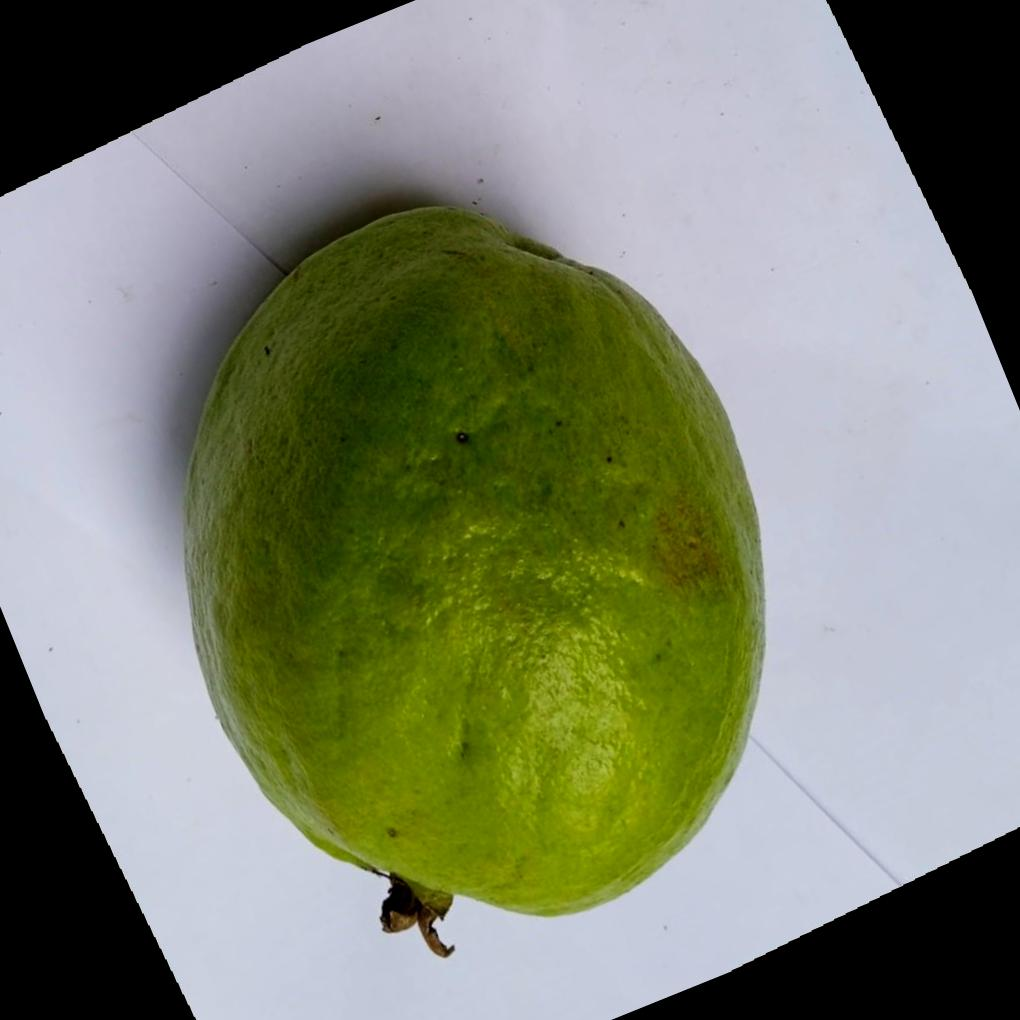FreshGuava: (178, 196, 765, 951)
